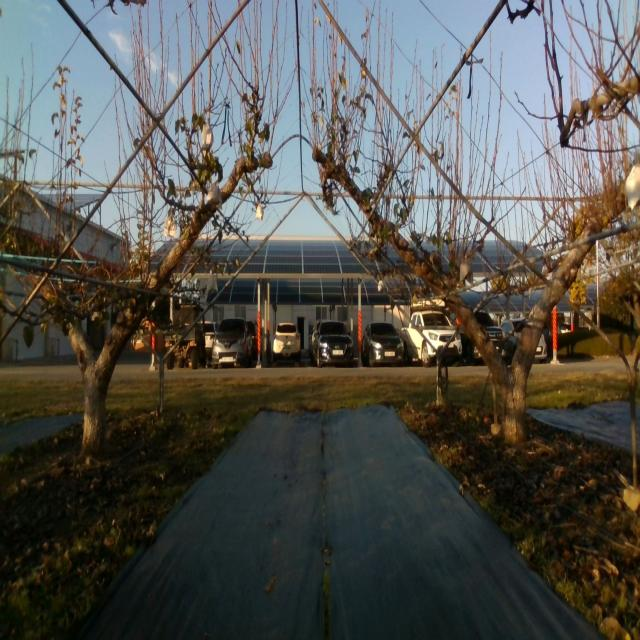pearbags: (625, 163, 640, 212), (206, 184, 222, 211), (459, 262, 474, 285), (164, 215, 177, 239), (202, 124, 214, 150)
